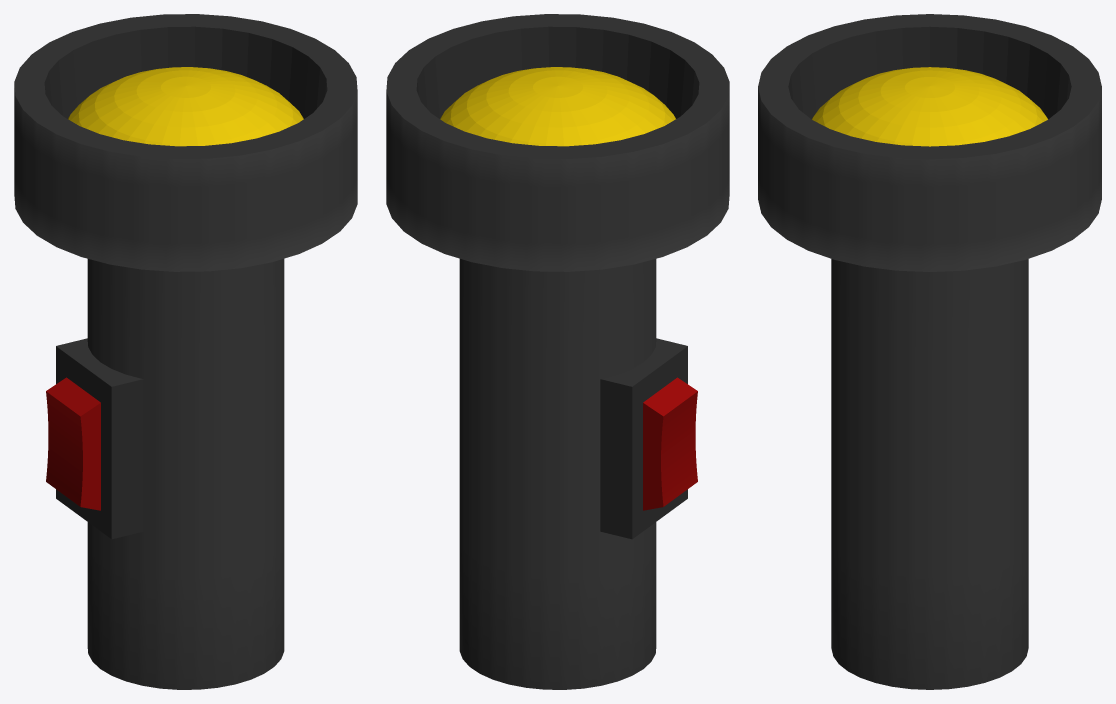
Rendered from flashligh.fbx.
3 renders of one model, left to right at view 1: azimuth 30°, elevation 25°; view 2: azimuth 150°, elevation 25°; view 3: azimuth 270°, elevation 25°, orthographic.
Visible parts, largest first — view 1: Cylinder; view 2: Cylinder; view 3: Cylinder.
Part boxes in pixels (x1,y1,x2,y2): Cylinder: [14, 14, 357, 689]; Cylinder: [386, 14, 729, 689]; Cylinder: [758, 14, 1101, 689].
Size of the model in its own units: 349 by 629 by 349.
